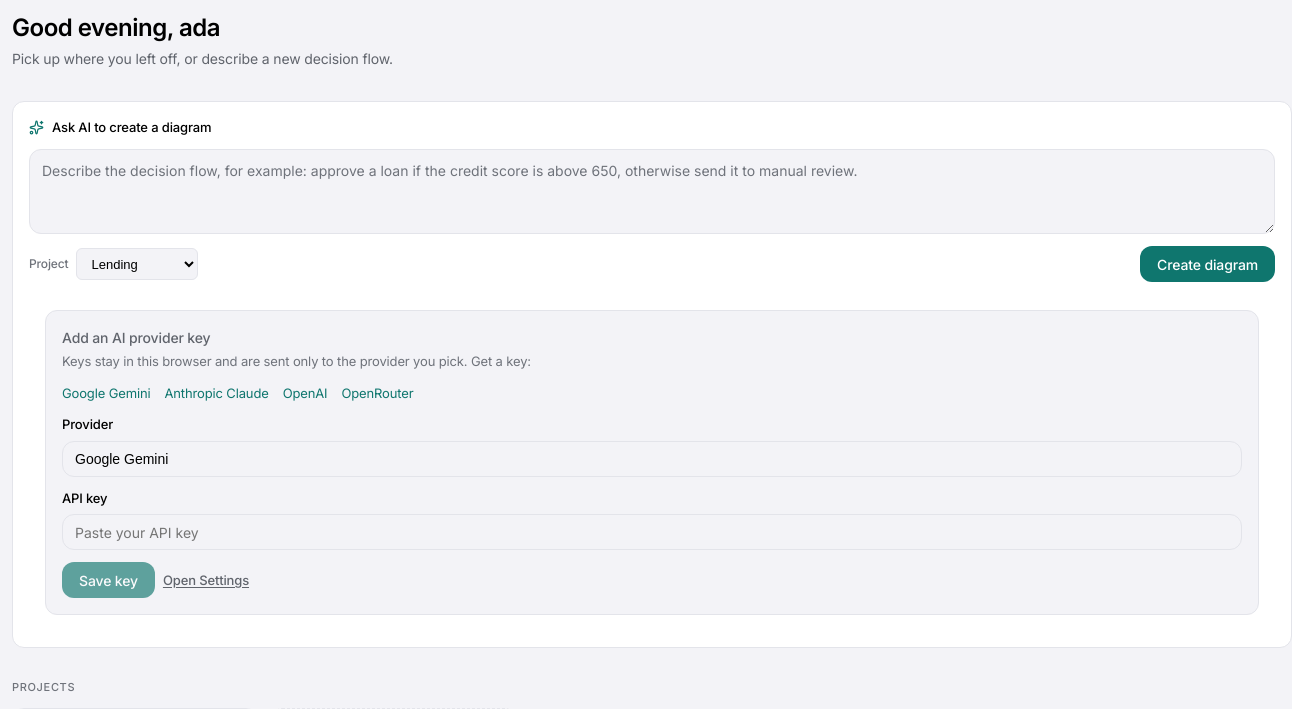
DashboardPage › Ask AI creates a diagram in the chosen project and opens the editor
The width and height of the screenshot is (1292, 709).
Expected: the element with test id "ai-missing-key" is shown, [45,310,1259,615]
Step 1. Type "Approve loans over 650" into the text box named "Describe the diagram" → [652, 192], box [29,149,1275,234]
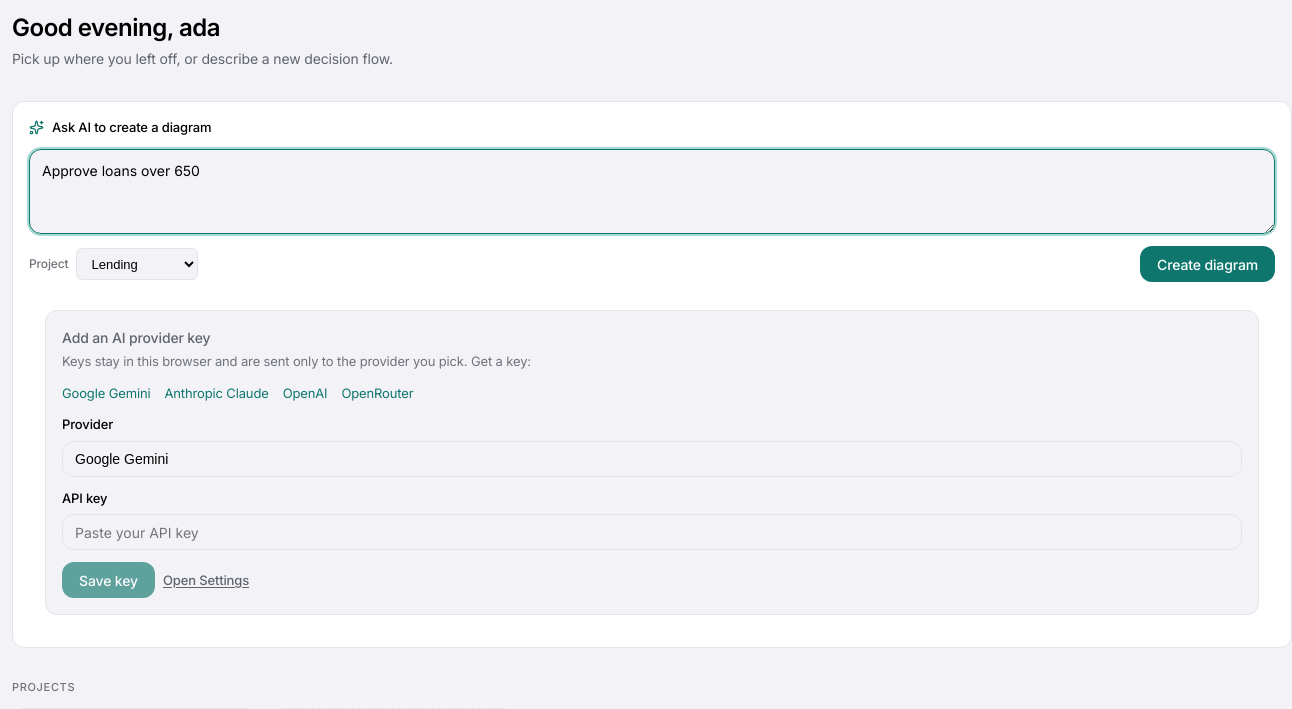
Step 2. Click the button "Create diagram" → [1208, 264], box [1140,246,1275,282]
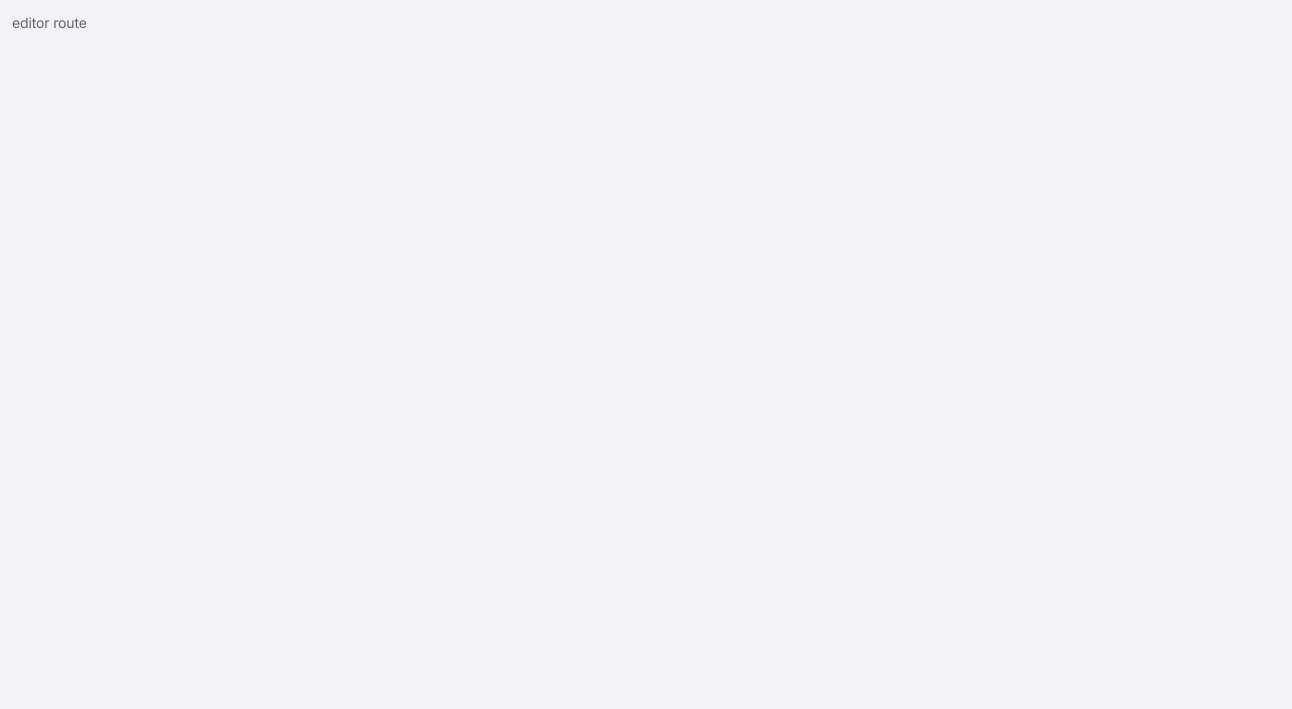
Result: the text "editor route" is shown at [12,14,87,31]
